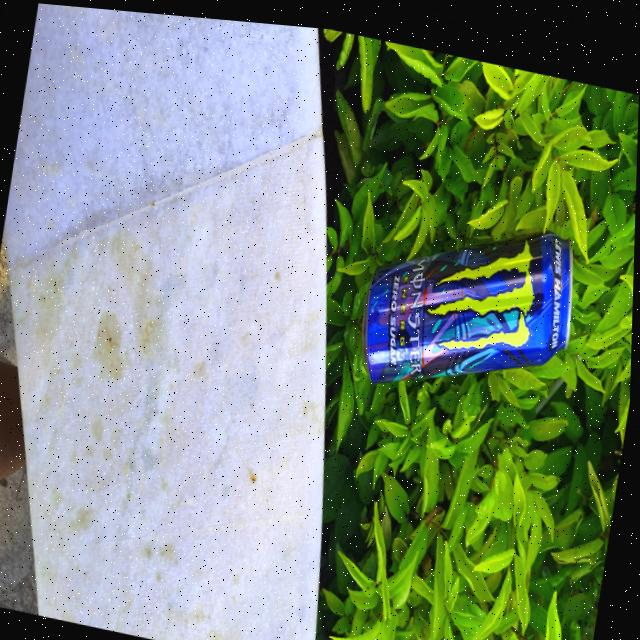Monster LH44: (354, 180, 585, 410)
